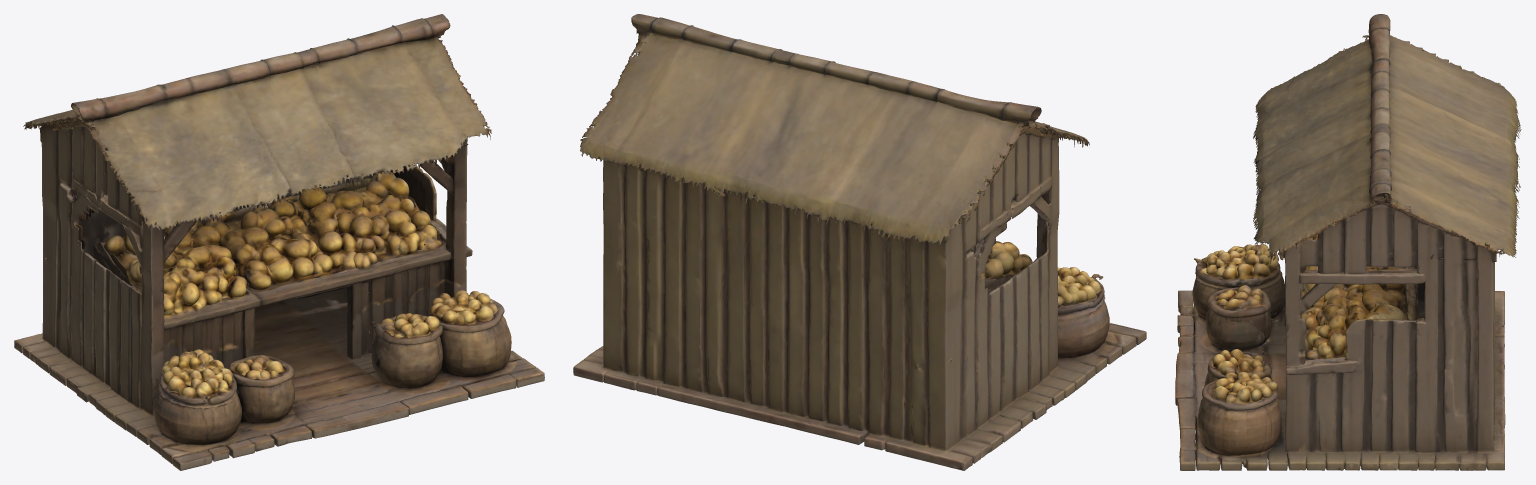
File: a073_sazdan_catili_pazar_tezgahi_cuvalli.glb
3 renders of one model, left to right at view 1: azimuth 30°, elevation 25°; view 2: azimuth 150°, elevation 25°; view 3: azimuth 270°, elevation 25°, orthographic. The views are drawn at different scales.
Bounding box in the file's own units: 1.97 × 1.48 × 1.64.
Materials: 1 (1 with a texture image).
